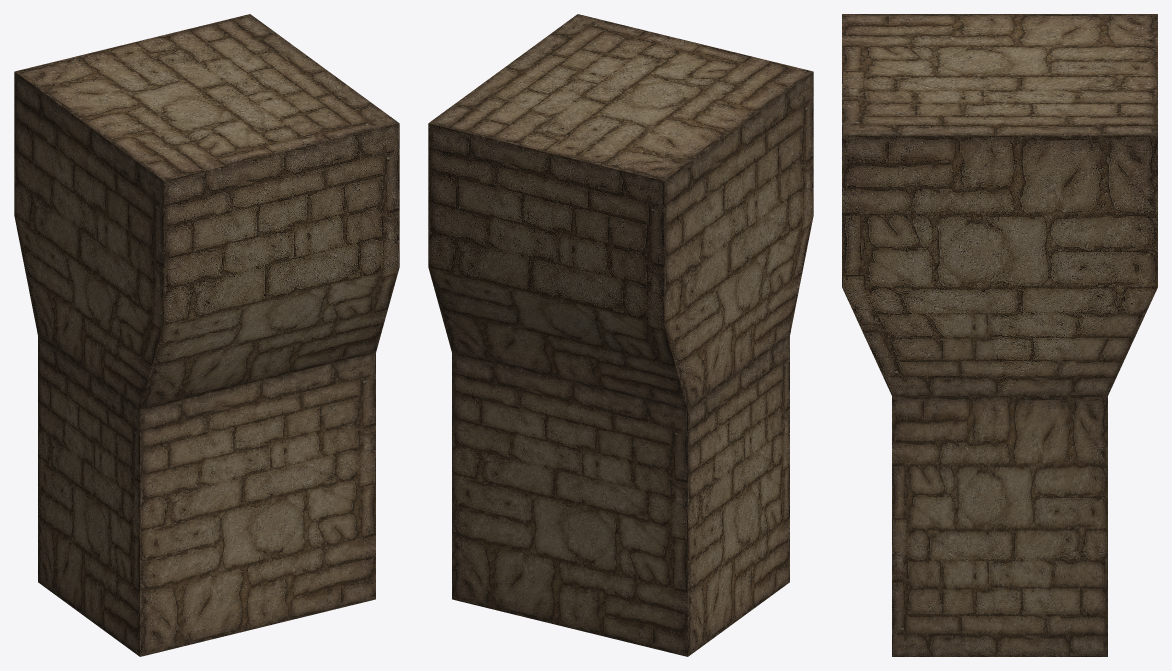
Rendered from Wall_02.fbx.
The picture shows the model from 3 angles, left to right: view 1: azimuth 30°, elevation 25°; view 2: azimuth 150°, elevation 25°; view 3: azimuth 270°, elevation 25°; orthographic projection. The views are drawn at different scales.
Parts seen in each view (by area): view 1: Wall_02; view 2: Wall_02; view 3: Wall_02.
Part boxes in pixels (bbox=[...]): Wall_02: bbox=[14, 14, 399, 656]; Wall_02: bbox=[428, 14, 813, 656]; Wall_02: bbox=[842, 14, 1157, 656].
Size of the model in its own units: 4 by 7.99 by 4.39.
